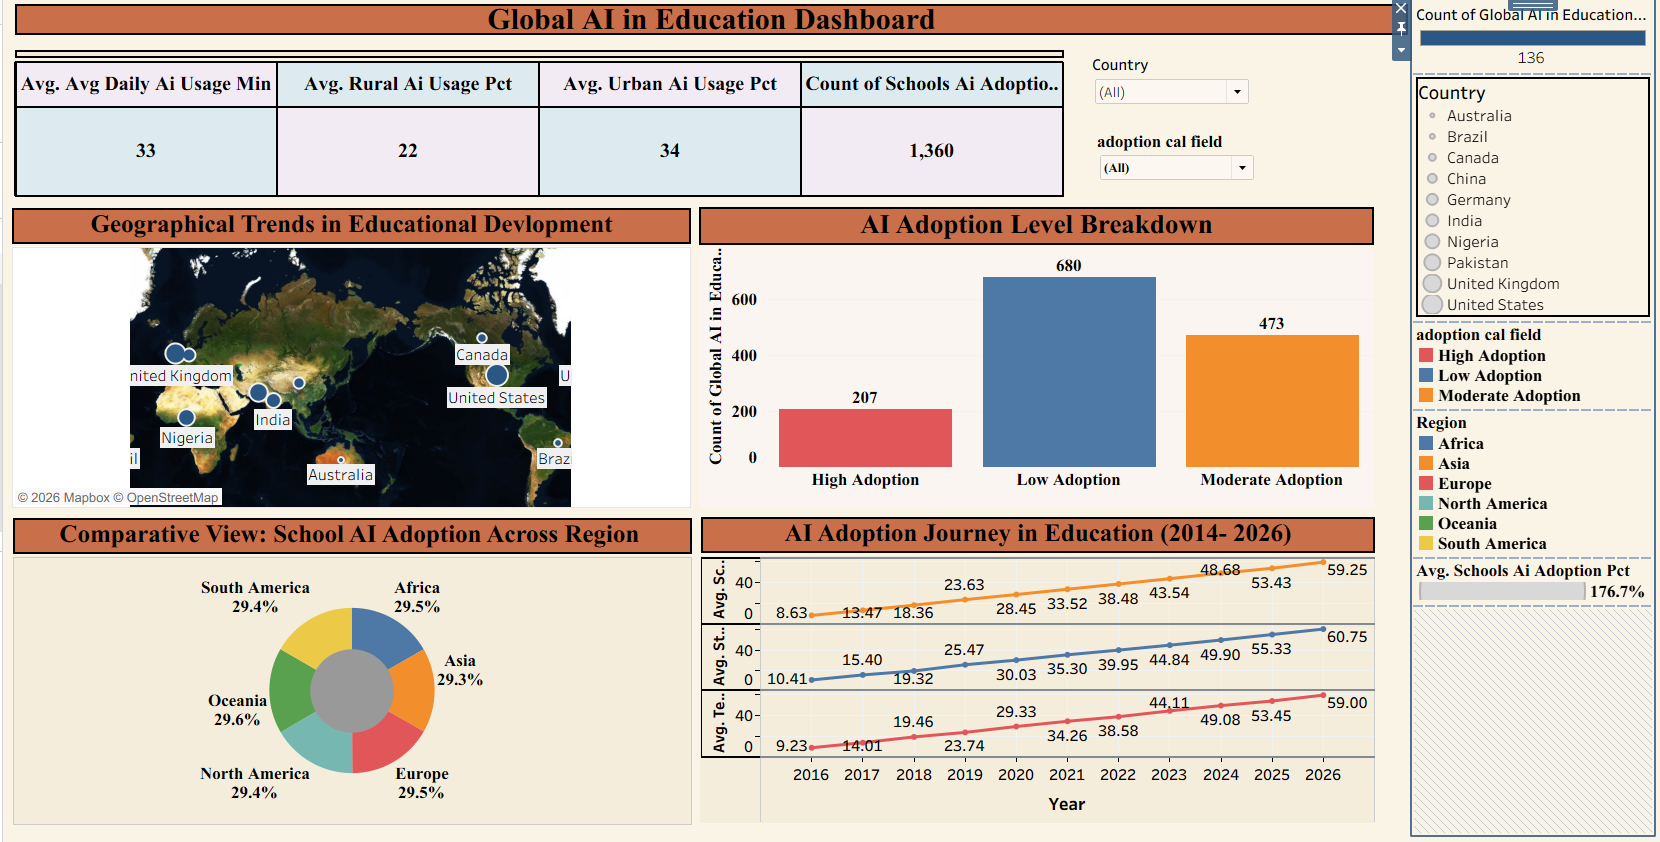

What the dashboard file says about the page in this screenshot:
{"tool":"tableau","page":{"name":"Dashboard 1","canvas":[1000,1000],"units":"permille","ordinal":0},"visuals":[{"type":"title","box":[4.8,9.4,844.5,45.8]},{"type":"legend","title":"Sheet 2","param":"[federated.127loor0xt43sw0zz3jo41iua51q].[__tableau_internal_object_id__].[cnt:G","box":[849.3,9.4,145.9,85.8]},{"type":"worksheet","title":"Sheet 1","mark":"Automatic","box":[6.6,68.2,633.1,172.7]},{"type":"filter","title":"Sheet 2","param":"[federated.127loor0xt43sw0zz3jo41iua51q].[none:country:nk]","box":[656.6,72.9,96.6,76.4]},{"type":"legend","title":"Sheet 2","param":"[federated.127loor0xt43sw0zz3jo41iua51q].[none:country:nk]","box":[849.3,95.2,145.9,291.4]},{"type":"filter","title":"Sheet 9","param":"[federated.127loor0xt43sw0zz3jo41iua51q].[none:Calculation_1475307243667457:nk]","box":[659.6,164.5,96.6,70.5]},{"type":"worksheet","title":"Sheet 9","mark":"Bar","rows":["Global AI in Education.csv_F7445F1BA9474E77A46D12EBB90062A0"],"cols":["Calculation_1475307243667457"],"box":[419.4,252.6,406.8,352.5]},{"type":"worksheet","title":"Sheet 2","mark":"Automatic","box":[5.4,253.8,409.2,352.5]},{"type":"legend","title":"Sheet 9","param":"[federated.127loor0xt43sw0zz3jo41iua51q].[none:Calculation_1475307243667457:nk]","box":[849.3,386.6,145.9,103.4]},{"type":"legend","title":"Sheet 11","param":"[federated.127loor0xt43sw0zz3jo41iua51q].[none:region:nk]","box":[849.3,490,145.9,173.9]},{"type":"worksheet","title":"Sheet 7","mark":"Automatic","rows":["schools_ai_adoption_pct","student_ai_usage_pct","teacher_ai_usage_pct"],"cols":["year"],"box":[420,616.9,406.8,359.6]},{"type":"worksheet","title":"Sheet 11","mark":"Automatic","rows":["Calculation_1900269232828419","Calculation_1900269232848901"],"box":[6,618.1,409.3,360.8]},{"type":"legend","title":"Sheet 11","param":"[federated.127loor0xt43sw0zz3jo41iua51q].[avg:schools_ai_adoption_pct:qk]","box":[849.3,663.9,145.9,56.4]}]}

Visuals, with their boxes on the dashboard's canvas, which has no fixed pixel size, in thousandths of its width and height (x1, y1, x2, y2). These are canvas units, not pixel positions in the 1660x842 screenshot, which may show the page scaled, cropped or inside an application window:
title: BBox(5, 9, 849, 55)
"Sheet 2" legend: BBox(849, 9, 995, 95)
"Sheet 1" worksheet: BBox(7, 68, 640, 241)
"Sheet 2" filter: BBox(657, 73, 753, 149)
"Sheet 2" legend: BBox(849, 95, 995, 387)
"Sheet 9" filter: BBox(660, 164, 756, 235)
"Sheet 9" worksheet (Bar marks): BBox(419, 253, 826, 605)
"Sheet 2" worksheet: BBox(5, 254, 415, 606)
"Sheet 9" legend: BBox(849, 387, 995, 490)
"Sheet 11" legend: BBox(849, 490, 995, 664)
"Sheet 7" worksheet: BBox(420, 617, 827, 976)
"Sheet 11" worksheet: BBox(6, 618, 415, 979)
"Sheet 11" legend: BBox(849, 664, 995, 720)
